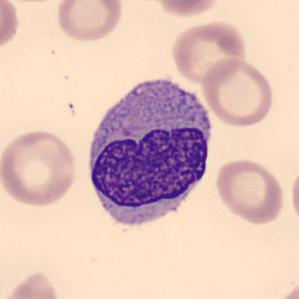Monocyte: (80, 68, 218, 238)
RBC: (0, 127, 80, 209), (199, 56, 275, 129), (170, 18, 248, 85), (212, 156, 286, 226), (53, 0, 124, 43), (0, 268, 66, 299), (149, 0, 224, 19), (0, 0, 21, 54), (288, 163, 299, 230), (272, 278, 298, 299)
